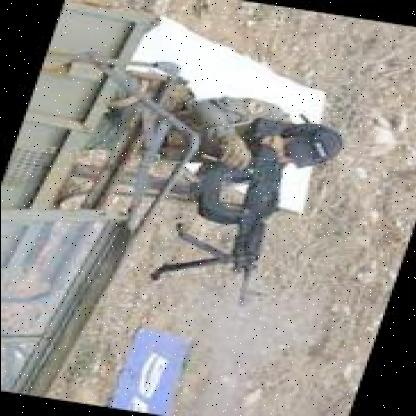rifle: (184, 142, 302, 312)
